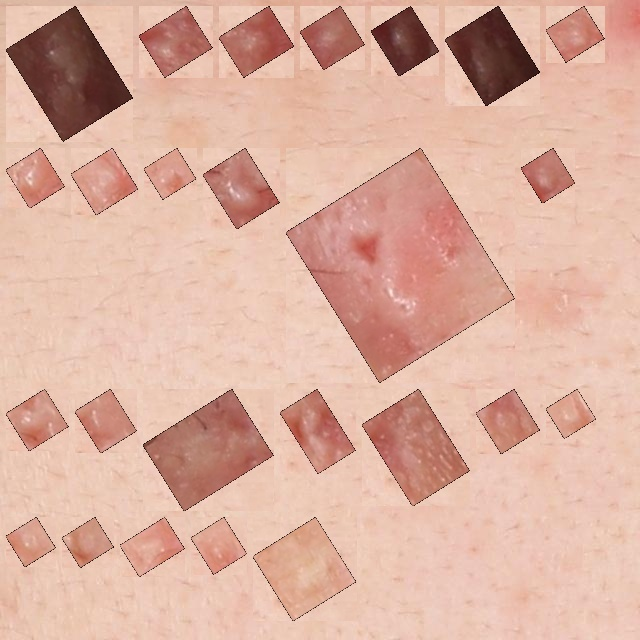hypertrophic_scar: (297, 159, 504, 371), (17, 17, 122, 130), (154, 400, 262, 500), (373, 400, 459, 495), (264, 528, 345, 610), (456, 17, 529, 95), (291, 400, 344, 462), (214, 159, 268, 218), (230, 17, 283, 66), (150, 17, 201, 66), (382, 17, 428, 65), (82, 159, 127, 204), (311, 17, 354, 59), (487, 400, 529, 443), (86, 400, 126, 442), (17, 400, 57, 440), (131, 528, 174, 565), (17, 159, 54, 197), (557, 17, 593, 51), (202, 528, 236, 563), (532, 159, 564, 192), (155, 159, 185, 188), (73, 528, 103, 556), (17, 528, 45, 556), (557, 400, 585, 427)
